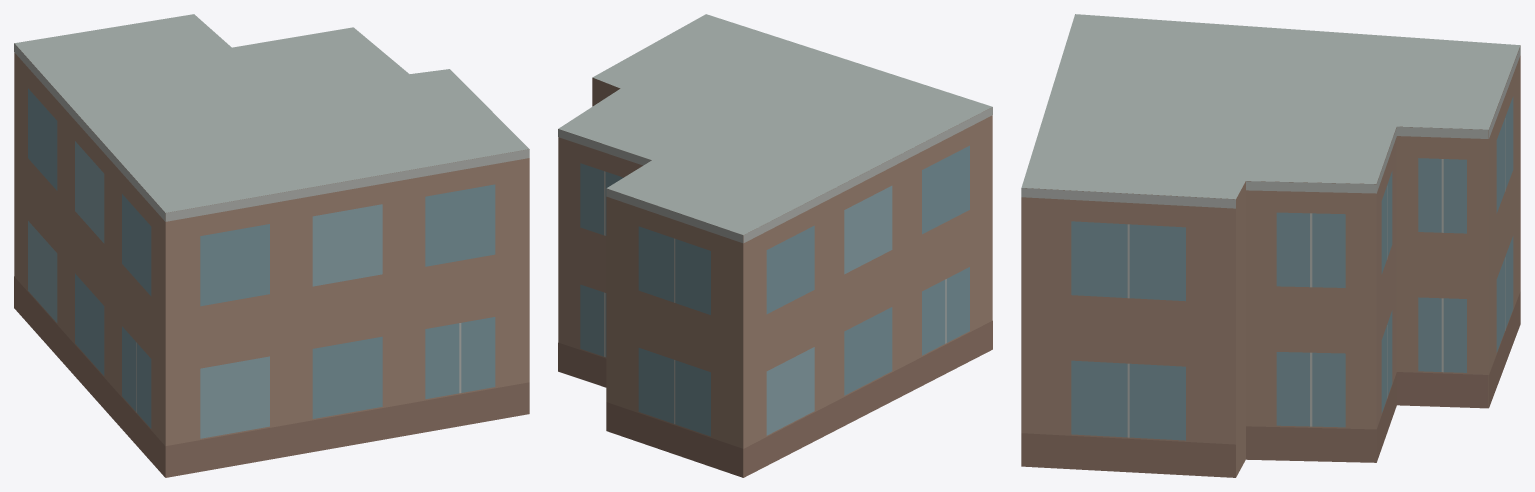
Rendered from survey-upis-32637512.glb.
The picture shows the model from 3 angles, left to right: view 1: azimuth 30°, elevation 25°; view 2: azimuth 150°, elevation 25°; view 3: azimuth 270°, elevation 25°; orthographic projection. The views are drawn at different scales.
Visible parts, largest first — view 1: survey-upis-32637512.tmp; view 2: survey-upis-32637512.tmp; view 3: survey-upis-32637512.tmp.
Boxes of the visible parts, x1,y1,x2,y2 form: survey-upis-32637512.tmp: (14, 14, 529, 477); survey-upis-32637512.tmp: (558, 14, 992, 477); survey-upis-32637512.tmp: (1021, 14, 1520, 477).
Size of the model in its own units: 10.27 by 7.2 by 11.7.
